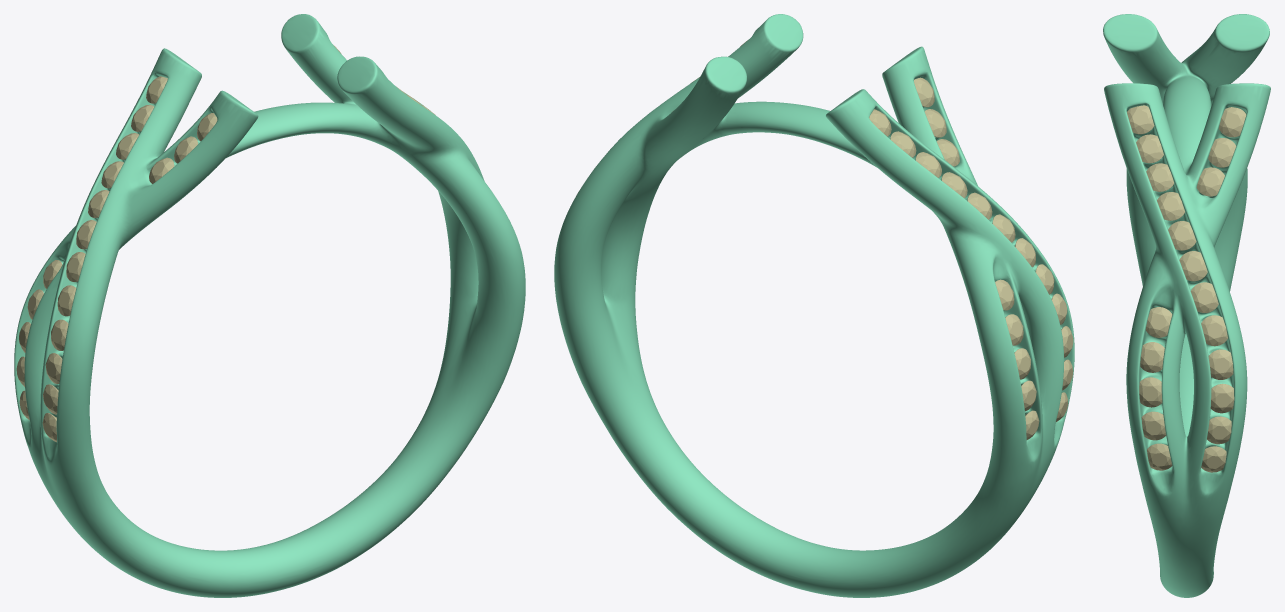
3 renders of one model, left to right at view 1: azimuth 30°, elevation 25°; view 2: azimuth 150°, elevation 25°; view 3: azimuth 270°, elevation 25°, orthographic.
Visible parts, largest first — view 1: Metal02; view 2: Metal02; view 3: Metal02, Diamond_Gem.024, Diamond_Gem.026, Diamond_Gem.023, Diamond_Gem.038, Diamond_Gem.039, Diamond_Gem.025, Diamond_Gem.027, Diamond_Gem.037, Diamond_Gem.034, Diamond_Gem.031, Diamond_Gem.033 (+9 smaller).
Boxes of the visible parts, bbox=[...] form: Metal02: bbox=[14, 14, 525, 597]; Metal02: bbox=[554, 14, 1074, 597]; Metal02: bbox=[1103, 14, 1270, 597]; Diamond_Gem.024: bbox=[1201, 315, 1227, 346]; Diamond_Gem.026: bbox=[1190, 282, 1218, 312]; Diamond_Gem.023: bbox=[1208, 349, 1233, 379]; Diamond_Gem.038: bbox=[1140, 342, 1164, 372]; Diamond_Gem.039: bbox=[1145, 307, 1172, 337]; Diamond_Gem.025: bbox=[1179, 251, 1207, 281]; Diamond_Gem.027: bbox=[1219, 107, 1246, 137]; Diamond_Gem.037: bbox=[1139, 377, 1162, 407]; Diamond_Gem.034: bbox=[1208, 138, 1236, 167]; Diamond_Gem.031: bbox=[1168, 221, 1196, 250]; Diamond_Gem.033: bbox=[1196, 167, 1224, 196].
Bounding box in the file's own units: 21.08 × 22.44 × 6.52.
